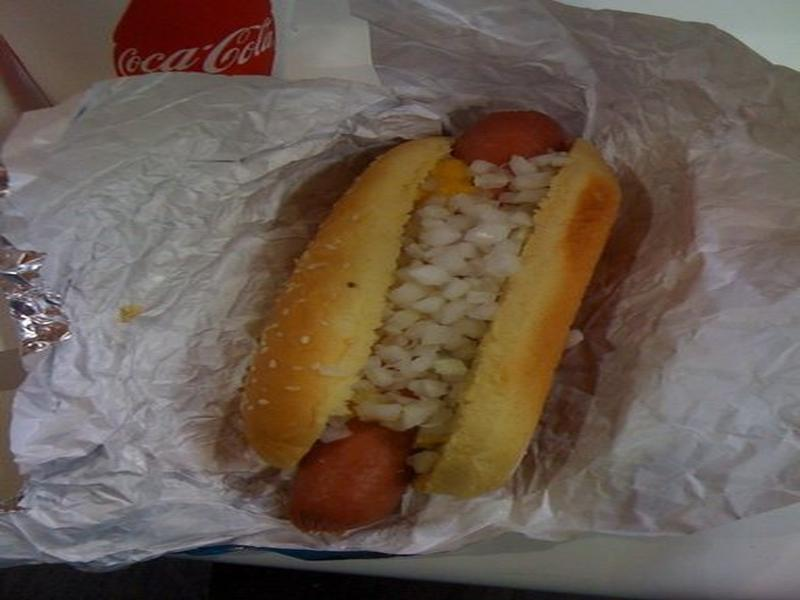hot_dog: (205, 68, 637, 600)
